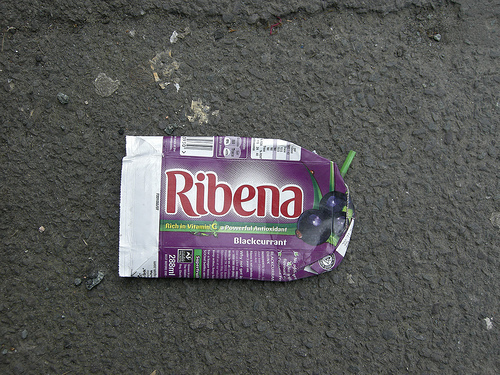litter: (117, 135, 354, 279)
